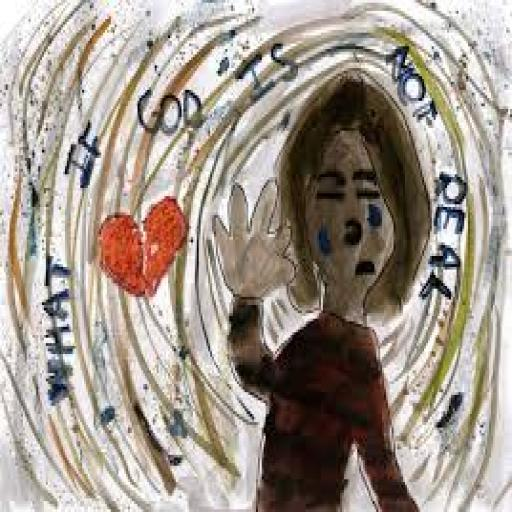person: (195, 57, 454, 512)
